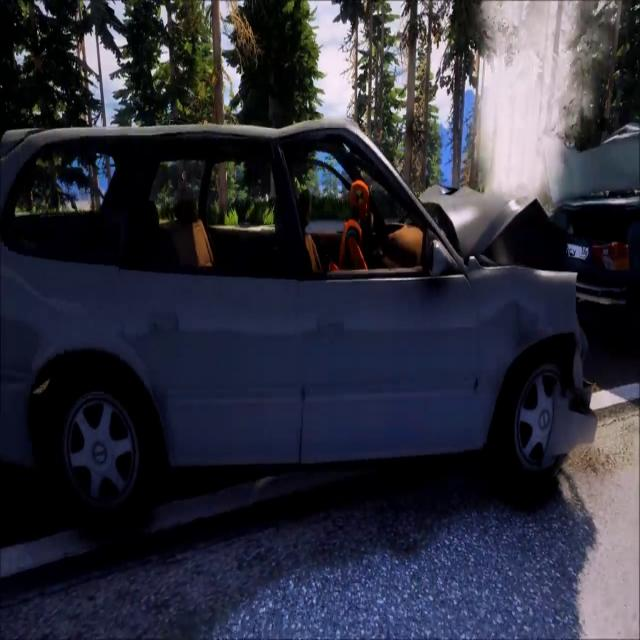accident: (2, 106, 640, 572)
